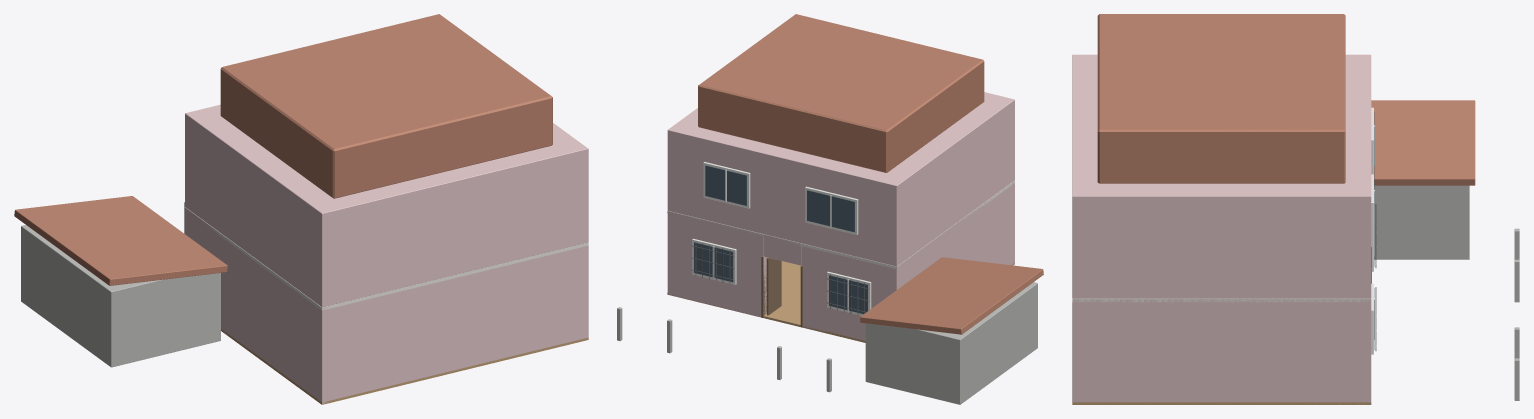
The model's file is Sultanbeyli_House81_Rose.fbx.
3 views of the same model, side by side, from view 1: azimuth 30°, elevation 25°; view 2: azimuth 150°, elevation 25°; view 3: azimuth 270°, elevation 25° (orthographic). The views are drawn at different scales.
Visible parts, largest first — view 1: Sultanbeyli_House81_Rose; view 2: Sultanbeyli_House81_Rose; view 3: Sultanbeyli_House81_Rose.
Boxes of the visible parts, x1,y1,x2,y2 form: Sultanbeyli_House81_Rose: (14,14,588,404); Sultanbeyli_House81_Rose: (617,14,1043,404); Sultanbeyli_House81_Rose: (1072,14,1519,404).
Bounding box in the file's own units: 13.45 × 7.97 × 12.27.
